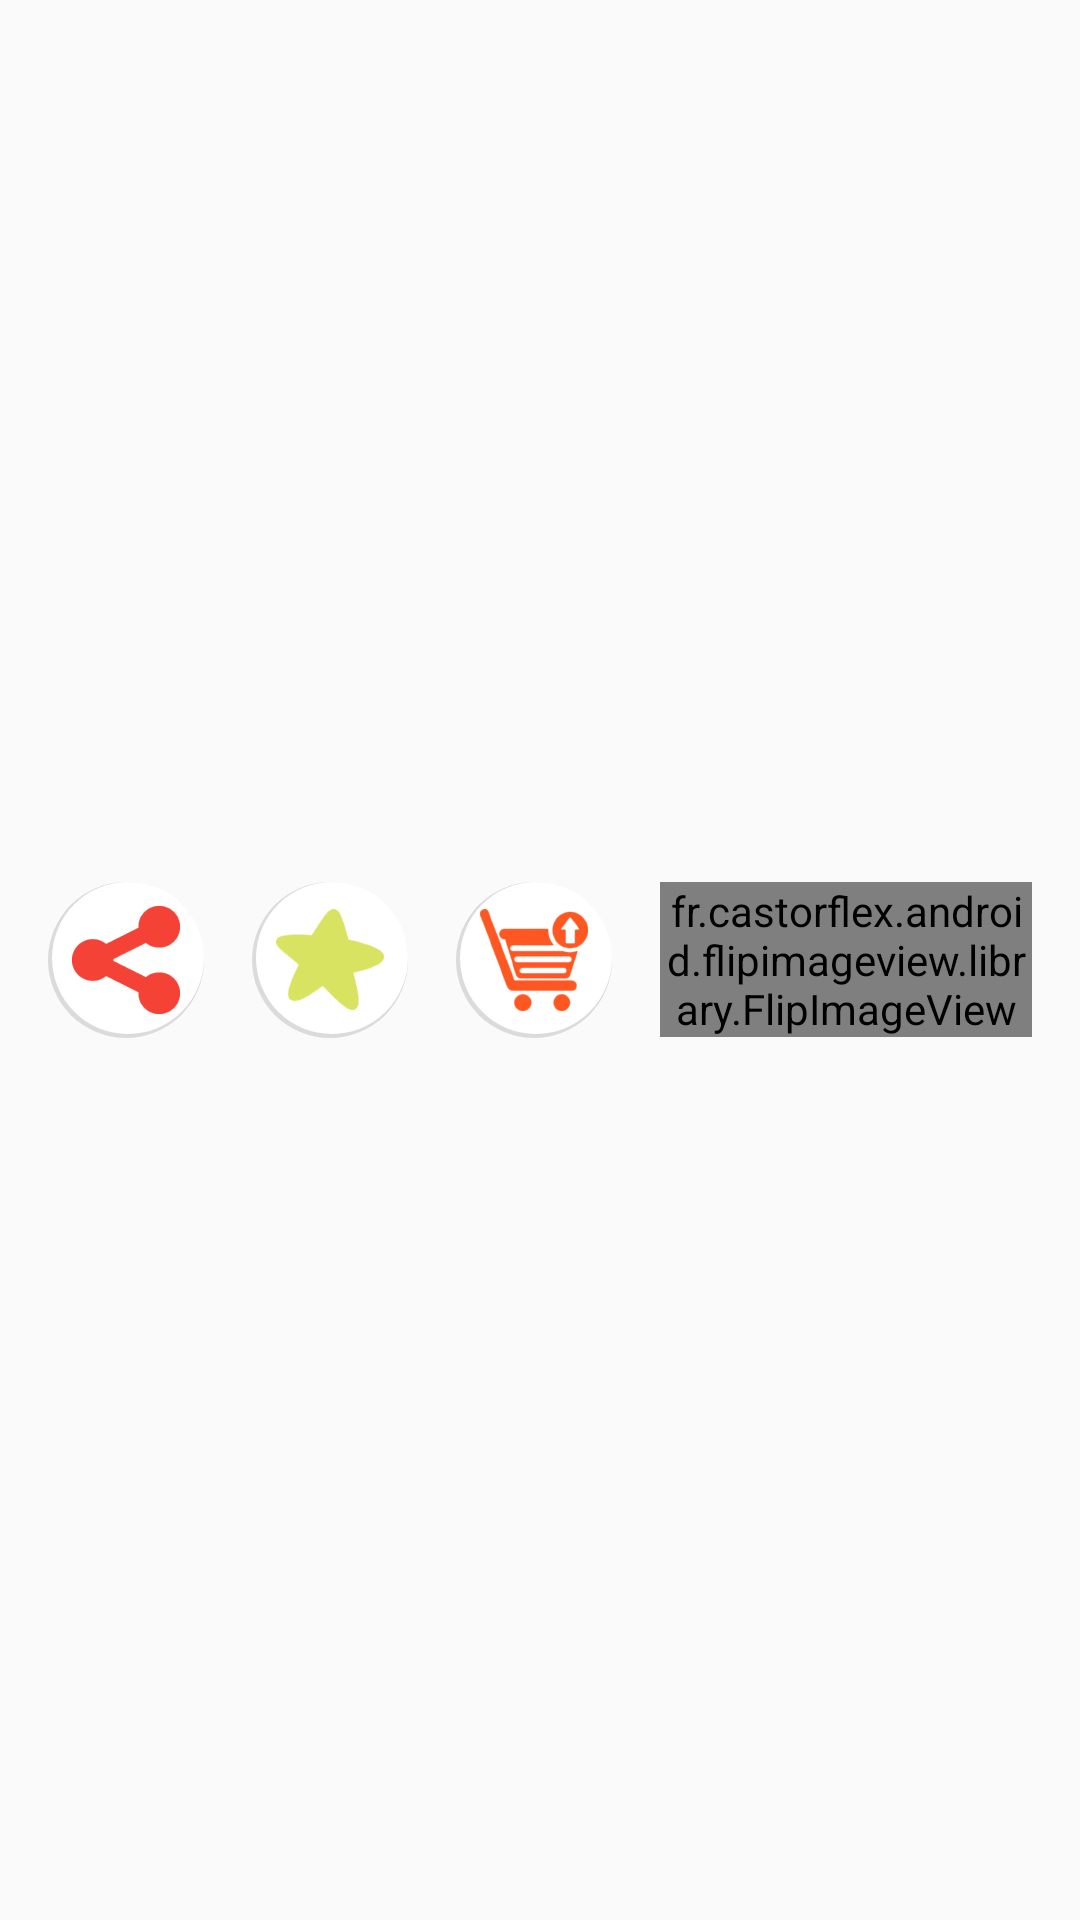

Icon bounding boxes for this 1080 x 1920 phone screenshot, format (x1, y1, x2, y2):
cart: (456, 886, 609, 1038)
rate star: (252, 886, 405, 1038)
share: (48, 886, 201, 1038)
